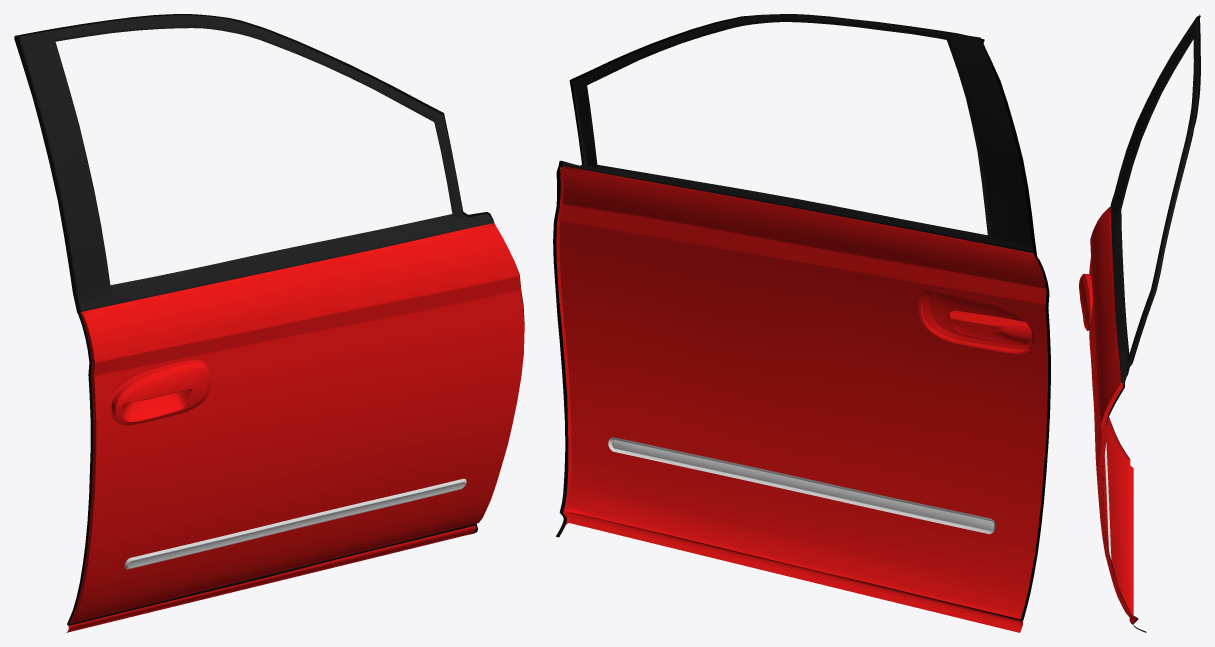
3 renders of one model, left to right at view 1: azimuth 30°, elevation 25°; view 2: azimuth 150°, elevation 25°; view 3: azimuth 270°, elevation 25°, orthographic. The views are drawn at different scales.
Parts seen in each view (by area): view 1: N664_9A_281B_R_1_DaS_N664_9A_281B_R, N664_9A_281B_R_N664_9A_281B_R_2_D, N664_9A_281B_R_N664_9A_281B_R_4_D, N664_9A_281B_R_N664_9A_281B_R_3_DaS, N664_9A_281B_R_1_DaS_N664_9A_281B_R_E; view 2: N664_9A_281B_R_1_DaS_N664_9A_281B_R, N664_9A_281B_R_N664_9A_281B_R_2_D, N664_9A_281B_R_N664_9A_281B_R_3_DaS, N664_9A_281B_R_N664_9A_281B_R_4_D, N664_9A_281B_R_1_DaS_N664_9A_281B_R_E; view 3: N664_9A_281B_R_1_DaS_N664_9A_281B_R, N664_9A_281B_R_N664_9A_281B_R_2_D, N664_9A_281B_R_1_DaS_N664_9A_281B_R_E, N664_9A_281B_R_N664_9A_281B_R_4_D, N664_9A_281B_R_N664_9A_281B_R_3_DaS.
Part boxes in pixels (x1,y1,x2,y2): N664_9A_281B_R_1_DaS_N664_9A_281B_R: (69, 225, 524, 631); N664_9A_281B_R_N664_9A_281B_R_2_D: (18, 15, 494, 311); N664_9A_281B_R_N664_9A_281B_R_4_D: (14, 14, 524, 625); N664_9A_281B_R_N664_9A_281B_R_3_DaS: (124, 478, 466, 569); N664_9A_281B_R_1_DaS_N664_9A_281B_R_E: (66, 223, 495, 632); N664_9A_281B_R_1_DaS_N664_9A_281B_R: (559, 167, 1047, 631); N664_9A_281B_R_N664_9A_281B_R_2_D: (561, 14, 1033, 253); N664_9A_281B_R_N664_9A_281B_R_3_DaS: (608, 437, 995, 534); N664_9A_281B_R_N664_9A_281B_R_4_D: (553, 14, 1050, 620); N664_9A_281B_R_1_DaS_N664_9A_281B_R_E: (556, 165, 1043, 632); N664_9A_281B_R_1_DaS_N664_9A_281B_R: (1079, 207, 1133, 619); N664_9A_281B_R_N664_9A_281B_R_2_D: (1110, 16, 1198, 383); N664_9A_281B_R_1_DaS_N664_9A_281B_R_E: (1080, 206, 1136, 624); N664_9A_281B_R_N664_9A_281B_R_4_D: (1103, 14, 1200, 632); N664_9A_281B_R_N664_9A_281B_R_3_DaS: (1104, 442, 1111, 559).
Bounding box in the file's own units: 109 × 133 × 32.22.
